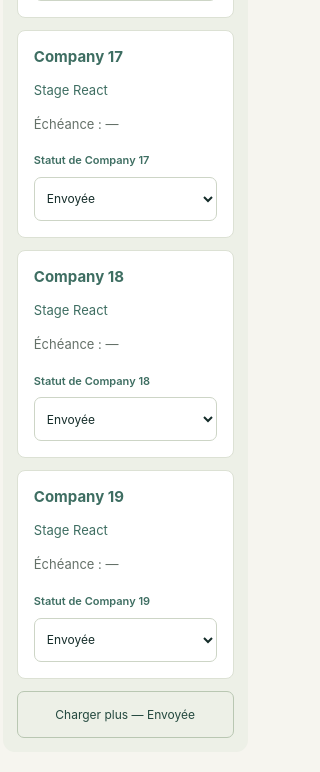
Test case: counts every page, scopes all five requests and loads the rest of a column without duplicates
(page scrolled)
Click the button "Charger plus — Envoyée". click: (125,714)
box: [17,691,234,738]
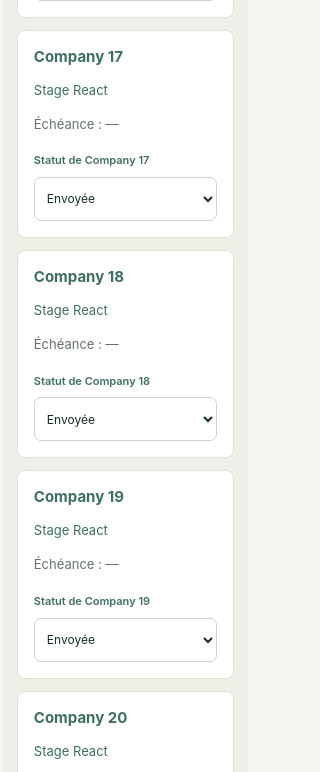
Now the heading "Company 20" is shown, box [34,708,127,727]
Now the button "Charger plus — Envoyée" is gone
